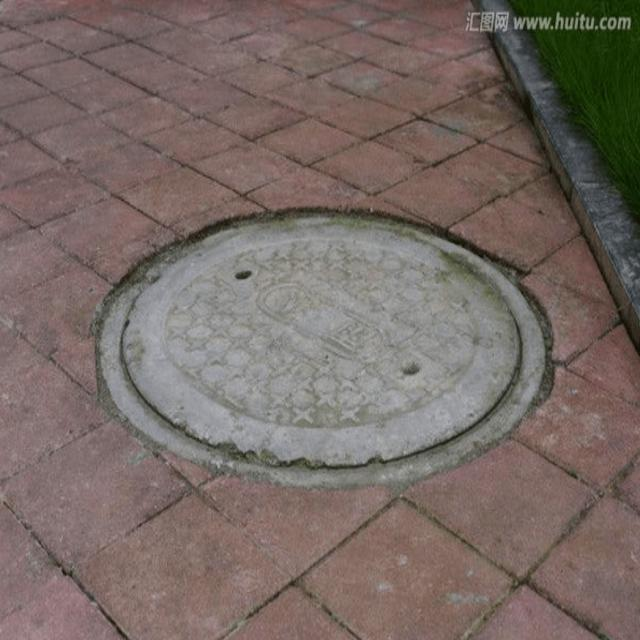manhole: (96, 209, 549, 487)
